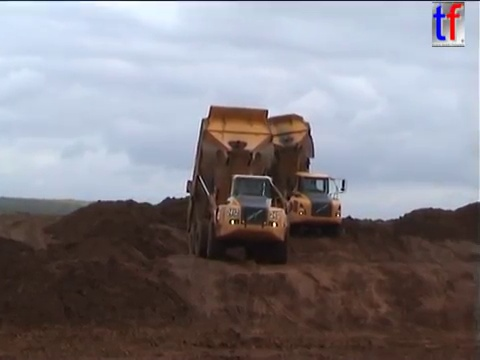truck: (184, 103, 297, 266), (245, 112, 347, 240)
